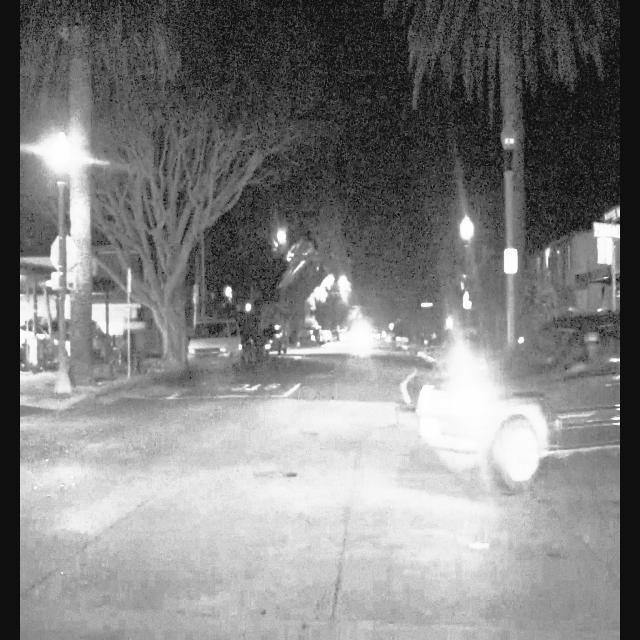Car: (413, 306, 640, 484)
Tree: (127, 27, 195, 371), (64, 0, 100, 394)
